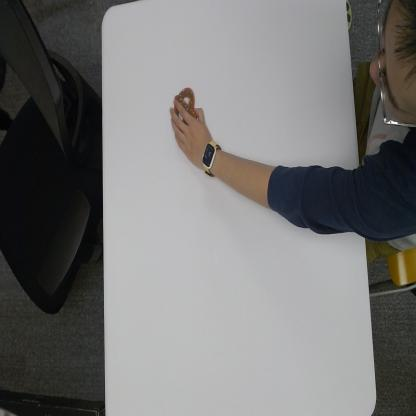Arm: (217, 150, 388, 237)
Hand: (170, 96, 206, 164)
Pretzel: (174, 85, 197, 119)
